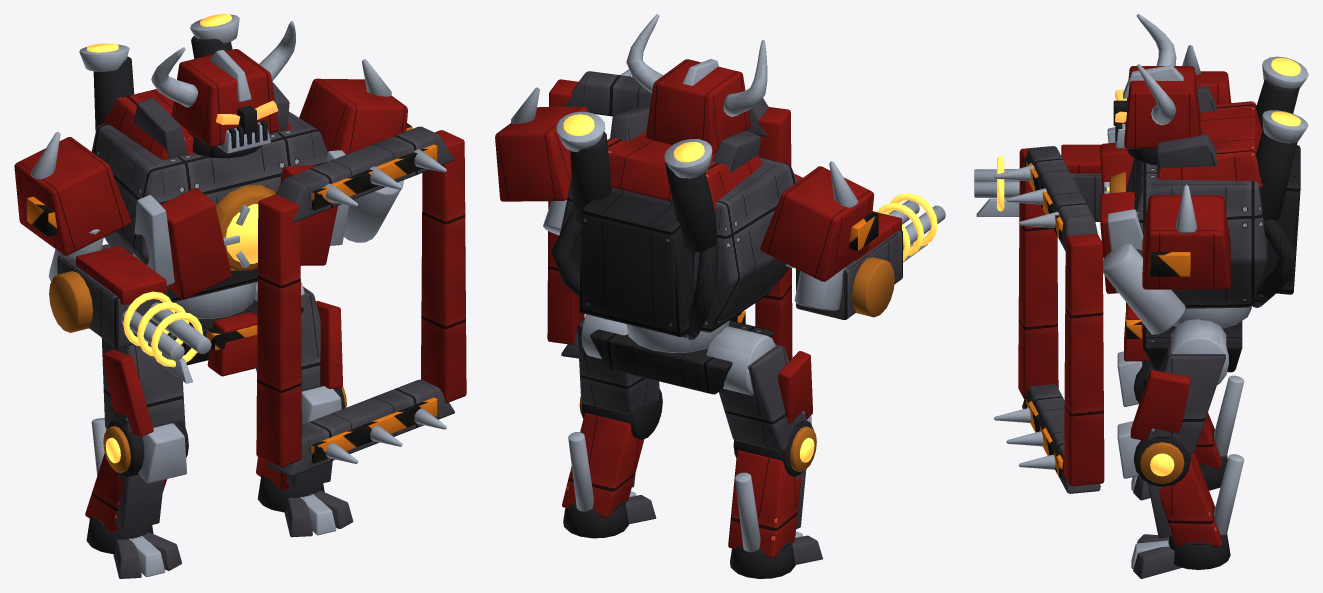
File: heavy_enforcer.glb
3 renders of one model, left to right at view 1: azimuth 30°, elevation 25°; view 2: azimuth 150°, elevation 25°; view 3: azimuth 270°, elevation 25°, orthographic. The views are drawn at different scales.
Parts seen in each view (by area): view 1: Heavy_Torso, Shield_SidePylon_-1, Shield_SidePylon_1, Heavy_RPauldron, Heavy_LPauldron, Heavy_Helm, Heavy_GlacisSide_-1, Shield_TopRam, Shield_BotRam, RightLeg_Thigh, Heavy_GunTopCowl, Heavy_GunBreech (+46 smaller); view 2: Heavy_Backpack, Heavy_Torso, Heavy_RPauldron, Heavy_Helm, Heavy_LPauldron, Heavy_Pelvis, RightLeg_Thigh, RightLeg_Shin, LeftLeg_Shin, Heavy_UpperCowl, Shield_SidePylon_-1, LeftLeg_Thigh (+34 smaller); view 3: Shield_SidePylon_1, Heavy_Torso, Shield_SidePylon_-1, Heavy_LPauldron, Heavy_UpperCowl, Heavy_Helm, Heavy_LUpper, LeftLeg_Shin, LeftLeg_Thigh, Shield_TopRam, LeftLeg_ThighShield, Heavy_Stack_1 (+38 smaller).
Boxes of the visible parts, <box> form: Heavy_Torso: <box>91,111,327,302</box>; Shield_SidePylon_-1: <box>256,194,302,467</box>; Shield_SidePylon_1: <box>421,130,466,403</box>; Heavy_RPauldron: <box>14,137,131,255</box>; Heavy_LPauldron: <box>299,78,407,154</box>; Heavy_Helm: <box>171,49,278,146</box>; Heavy_GlacisSide_-1: <box>161,188,231,299</box>; Shield_TopRam: <box>276,126,454,222</box>; Shield_BotRam: <box>268,379,454,476</box>; RightLeg_Thigh: <box>101,338,185,431</box>; Heavy_GunTopCowl: <box>76,246,166,304</box>; Heavy_GunBreech: <box>57,244,167,348</box>; Heavy_Backpack: <box>579,191,695,337</box>; Heavy_Torso: <box>560,138,797,332</box>; Heavy_RPauldron: <box>760,166,874,281</box>; Heavy_Helm: <box>645,59,750,154</box>; Heavy_LPauldron: <box>495,106,588,201</box>; Heavy_Pelvis: <box>590,320,774,394</box>; RightLeg_Thigh: <box>719,344,806,451</box>; RightLeg_Shin: <box>728,450,801,558</box>; LeftLeg_Shin: <box>562,413,644,517</box>; Heavy_UpperCowl: <box>607,132,762,210</box>; Shield_SidePylon_-1: <box>755,107,792,361</box>; LeftLeg_Thigh: <box>577,319,659,414</box>; Shield_SidePylon_1: <box>1064,233,1104,486</box>; Heavy_Torso: <box>1126,158,1267,308</box>; Shield_SidePylon_-1: <box>1018,146,1058,399</box>; Heavy_LPauldron: <box>1142,195,1230,289</box>; Heavy_UpperCowl: <box>1157,101,1262,187</box>; Heavy_Helm: <box>1124,66,1200,148</box>; Heavy_LUpper: <box>1103,243,1185,334</box>; LeftLeg_Shin: <box>1159,452,1221,546</box>; LeftLeg_Thigh: <box>1147,346,1225,453</box>; Shield_TopRam: <box>1022,146,1097,254</box>; LeftLeg_ThighShield: <box>1130,370,1190,440</box>; Heavy_Stack_1: <box>1256,129,1297,220</box>.
Size of the model in its own units: 2.01 by 2.66 by 1.65.
Materials: 8 (6 with a texture image).
